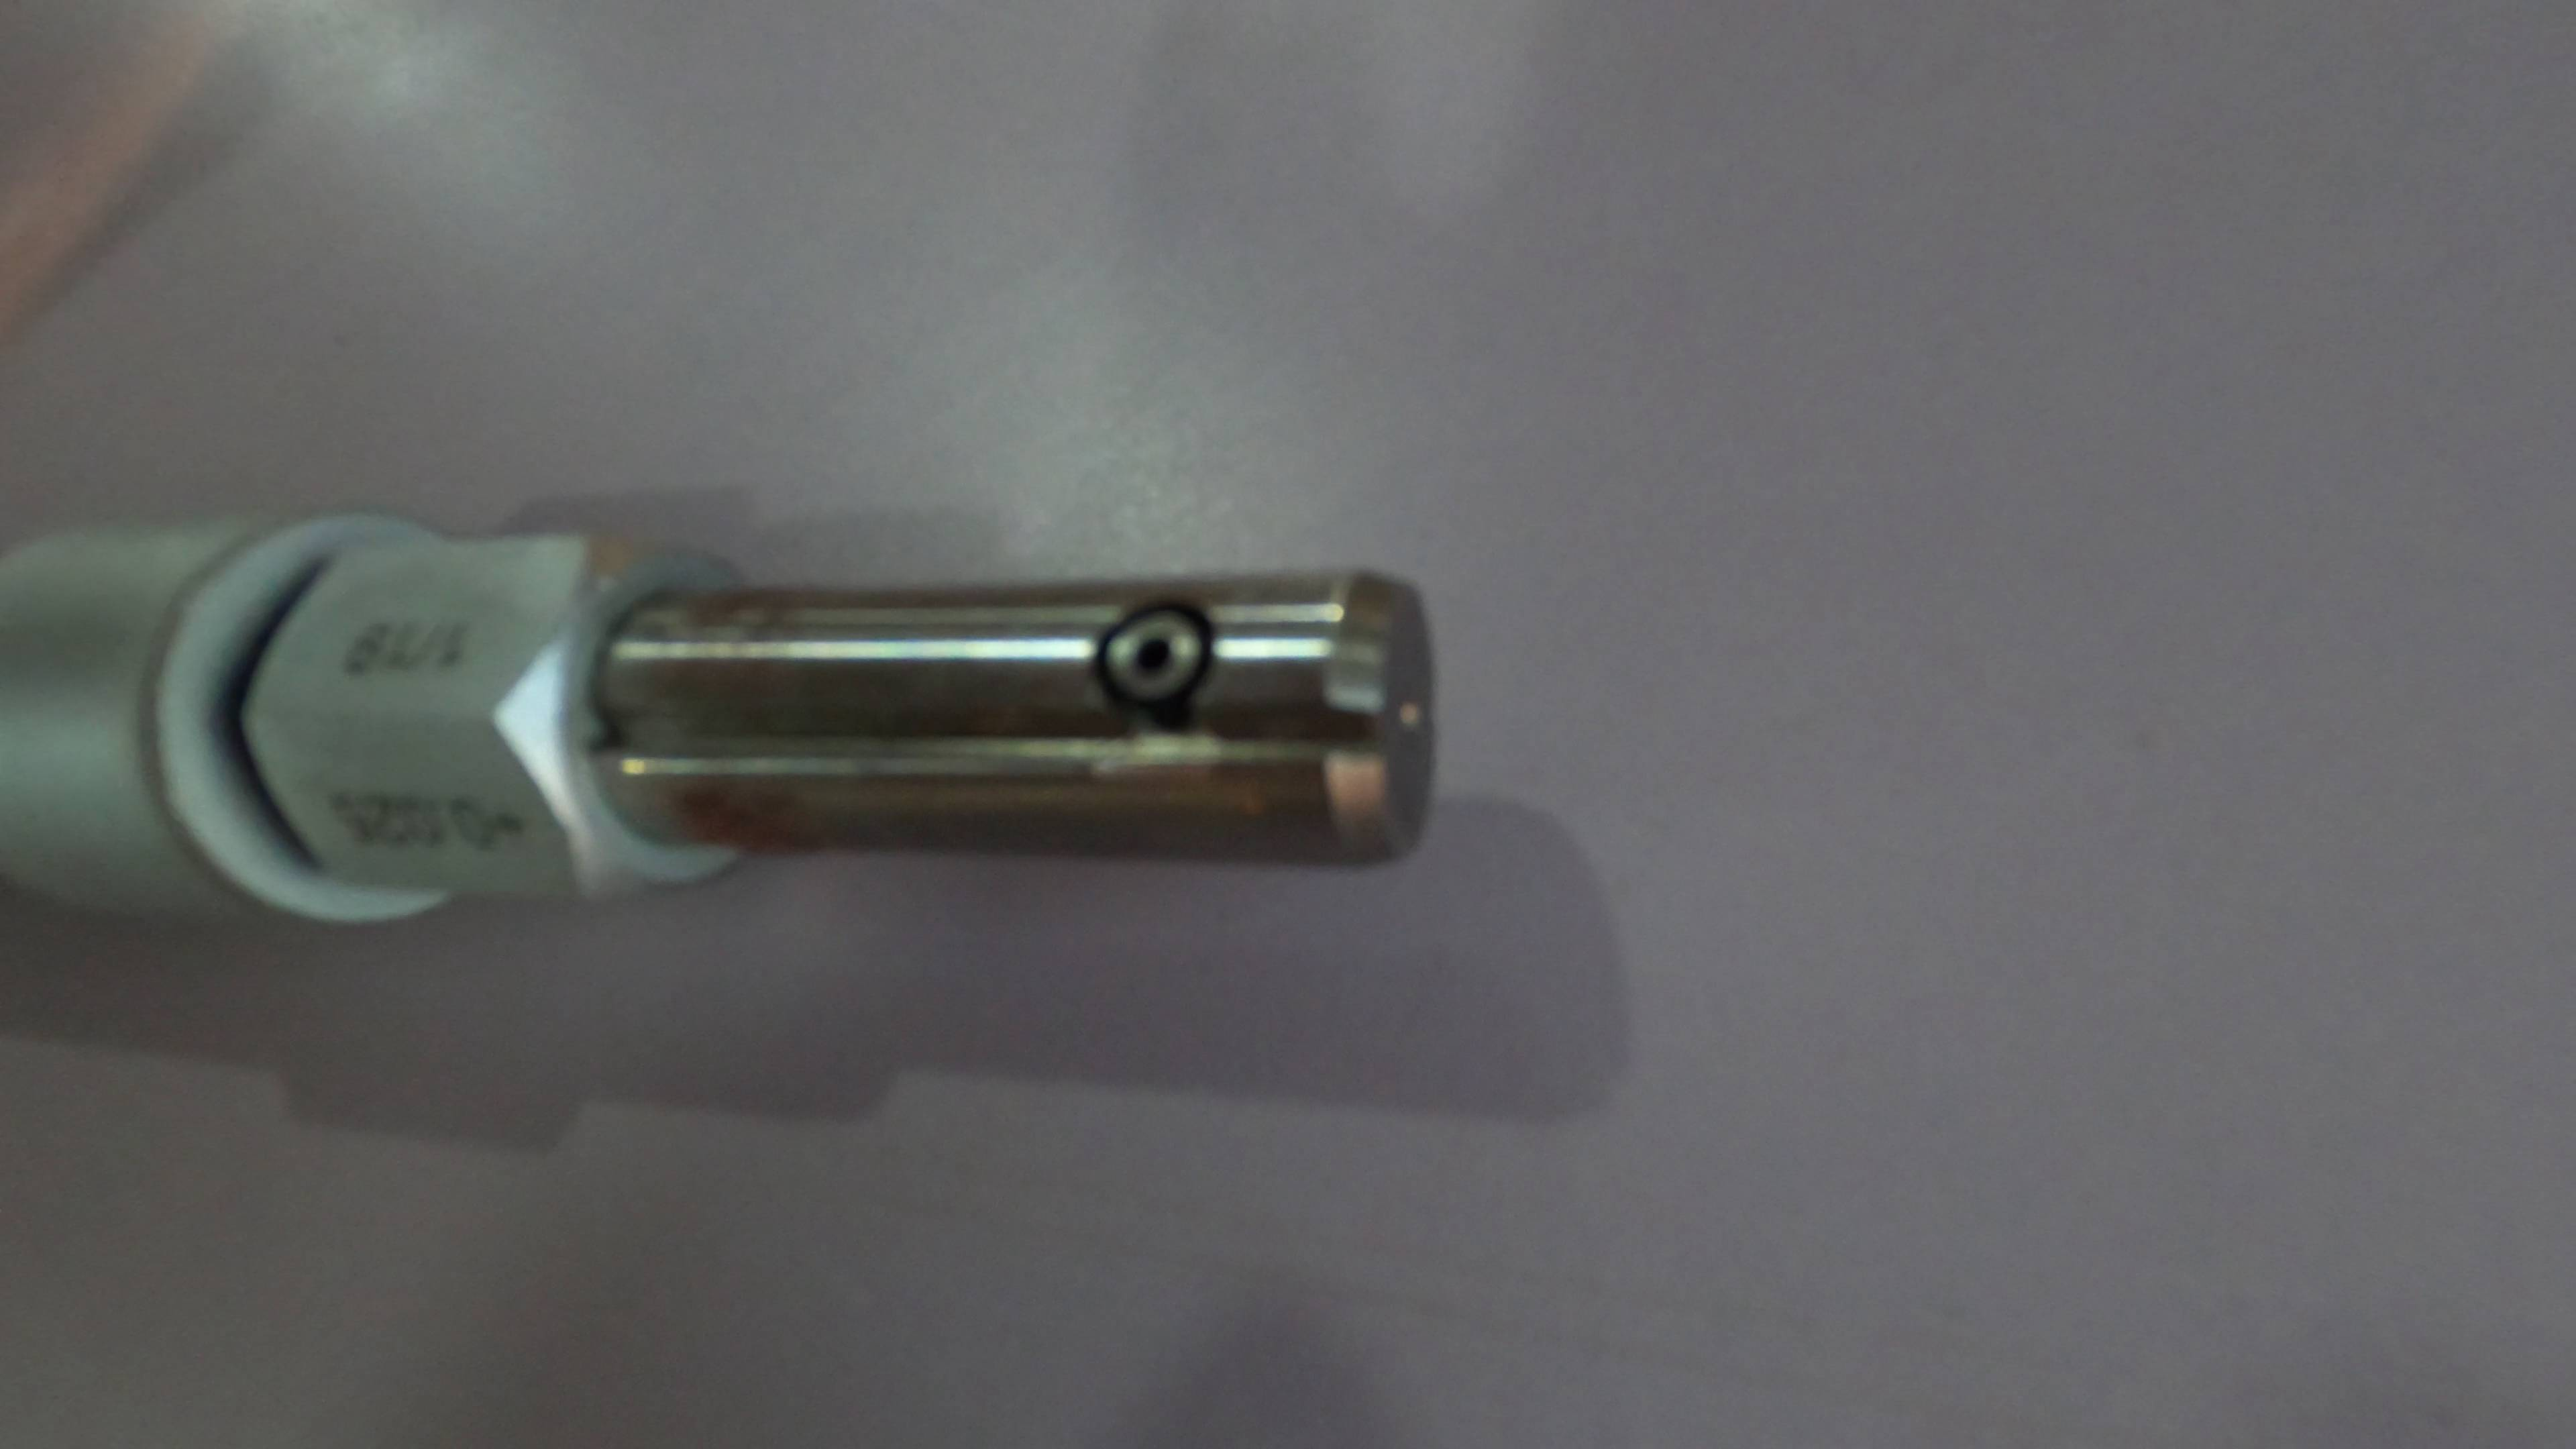air_gauge: (2, 517, 1456, 927)
